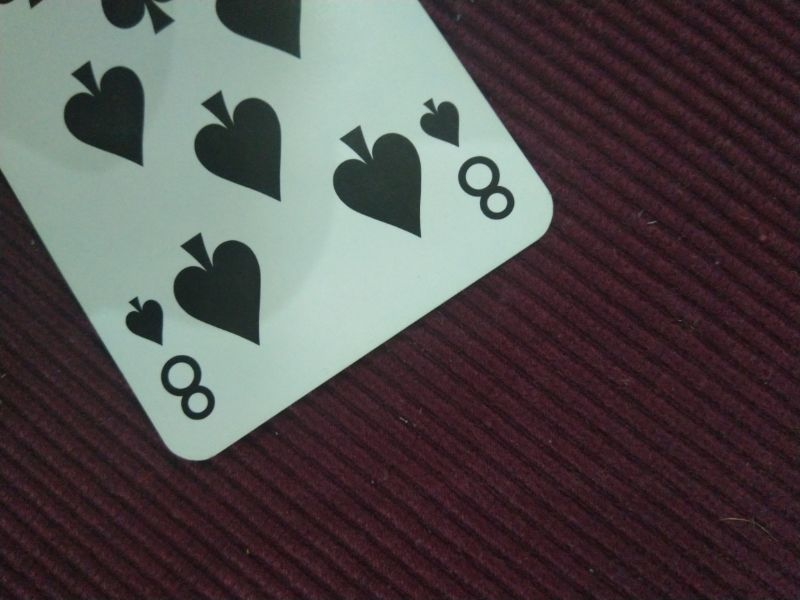8s: (117, 290, 218, 423), (418, 95, 517, 221)
